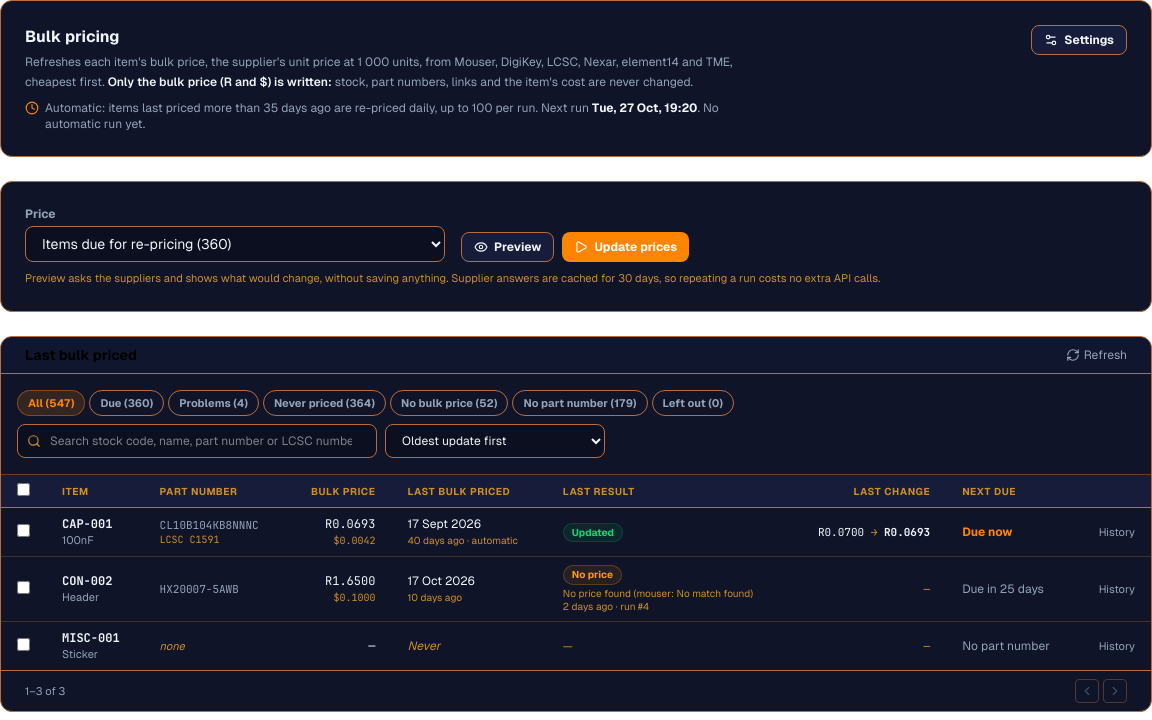
Test case: running bulk pricing › says when another run is in progress, and follows that one
The width and height of the screenshot is (1152, 720).
Click the button "Update prices": coordinates (626, 247) [562,232,689,262]
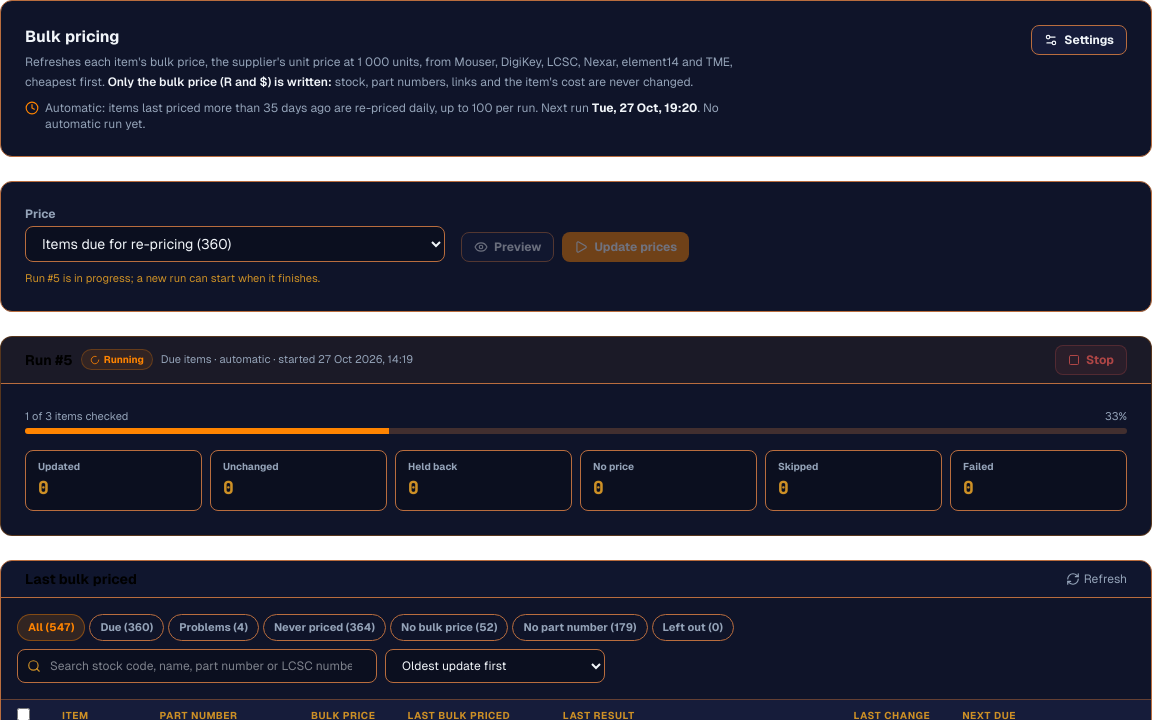
Result: the element with test id "run-card" shows "Run #5" at [0,336,1151,536]
Result: the element with test id "run-card" shows "automatic" at [219,353,270,365]
Result: the button "Stop" is shown at [1055,344,1127,374]
